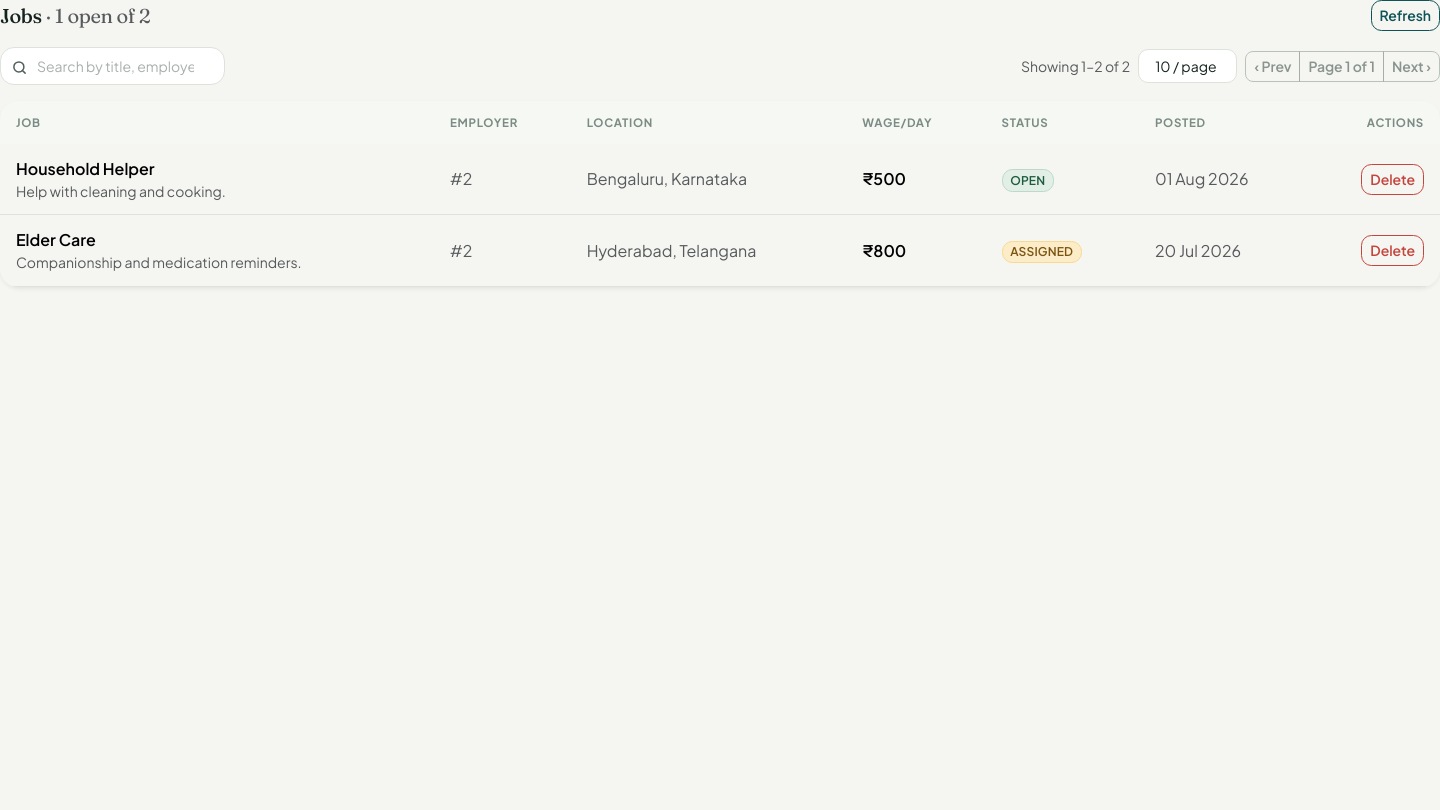
Test case: JobManagement › shows a toast and keeps the row when delete fails
Expected: the text "Household Helper" is shown, x1=16 y1=158 x2=155 y2=179
Click the button with test id "delete-10": [1393, 179] box x1=1361 y1=164 x2=1424 y2=195
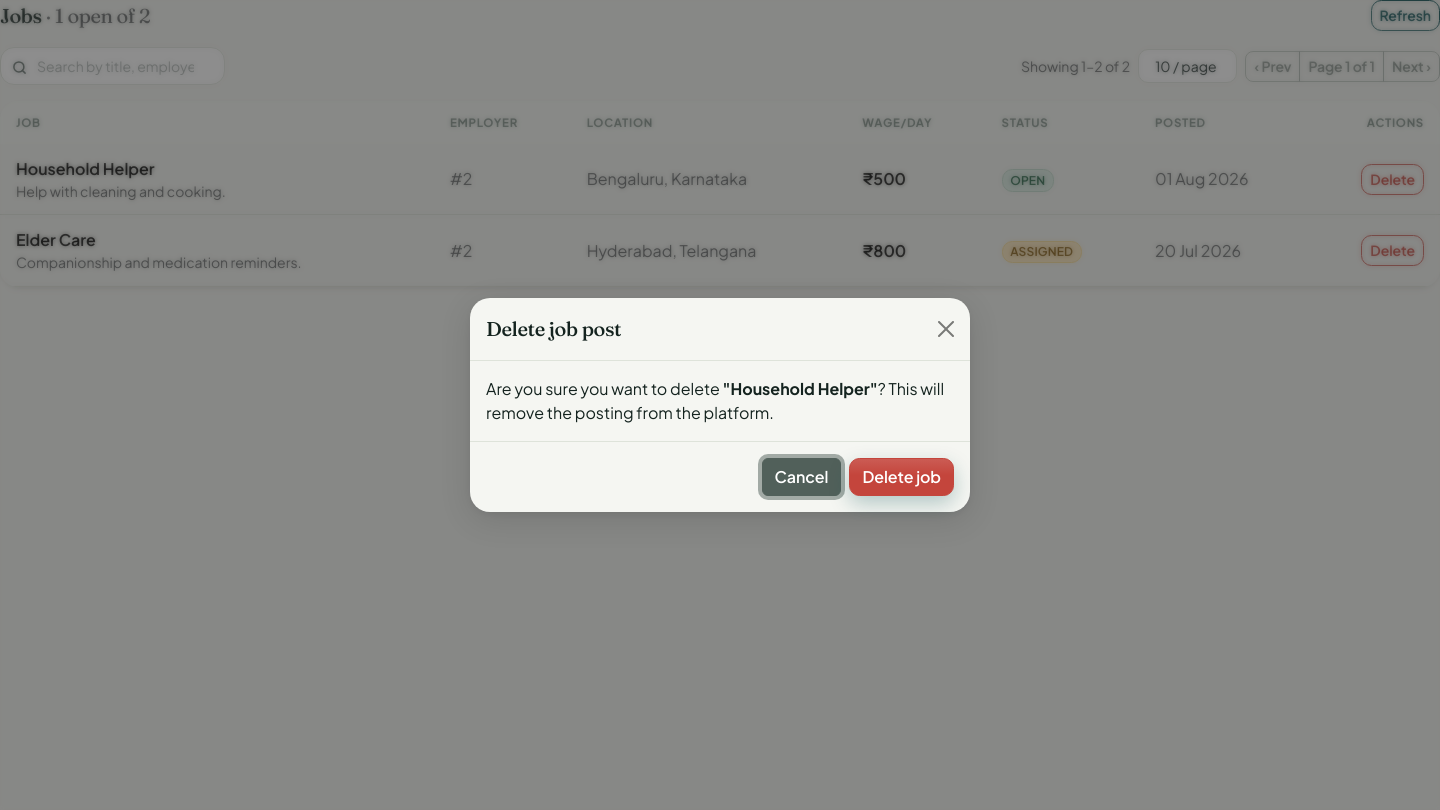
Click the button "Delete job": [902, 477] box x1=849 y1=458 x2=954 y2=496
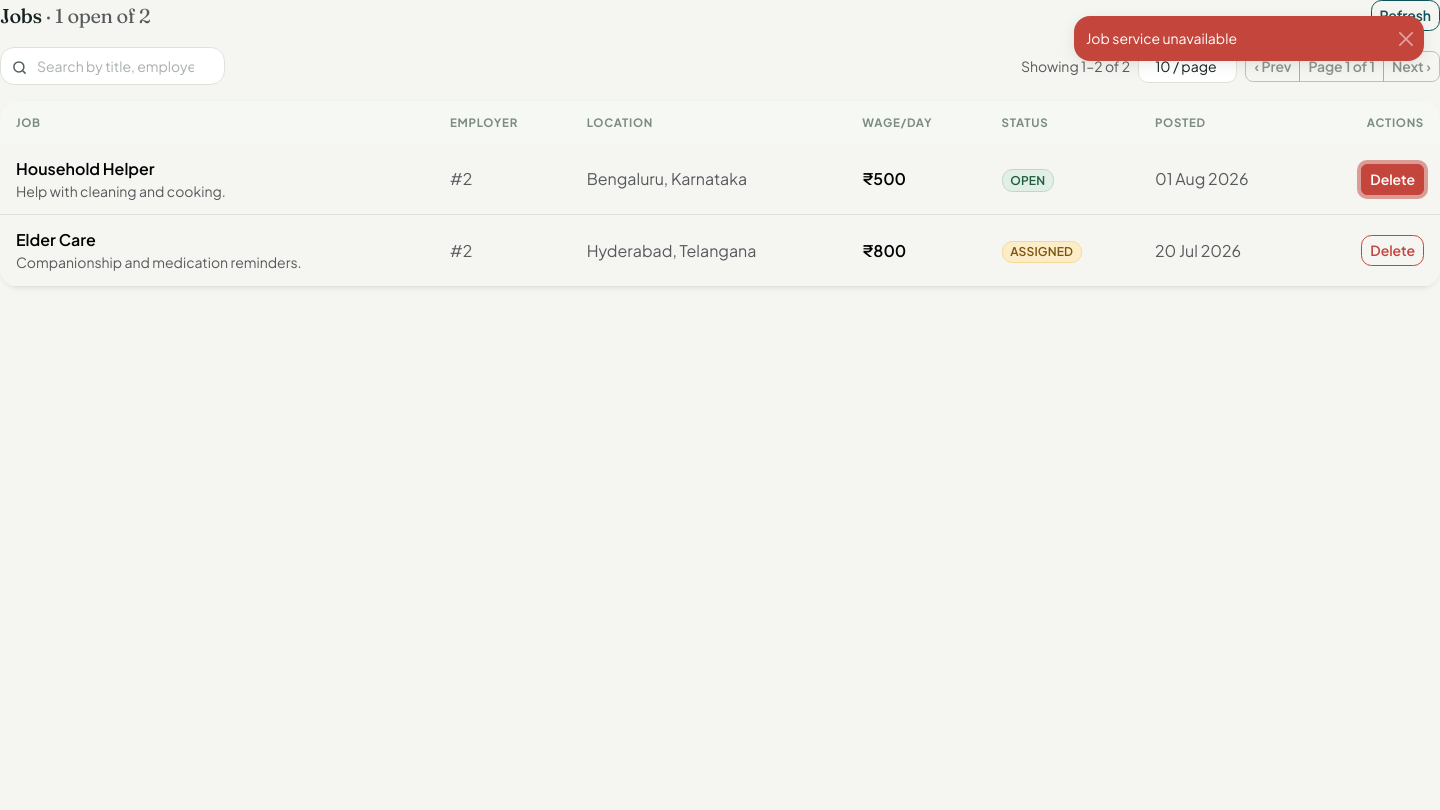
Expected: the text "Household Helper" is shown, x1=16 y1=158 x2=155 y2=179
Expected: the text "Job service unavailable" is shown, x1=1086 y1=29 x2=1237 y2=47
